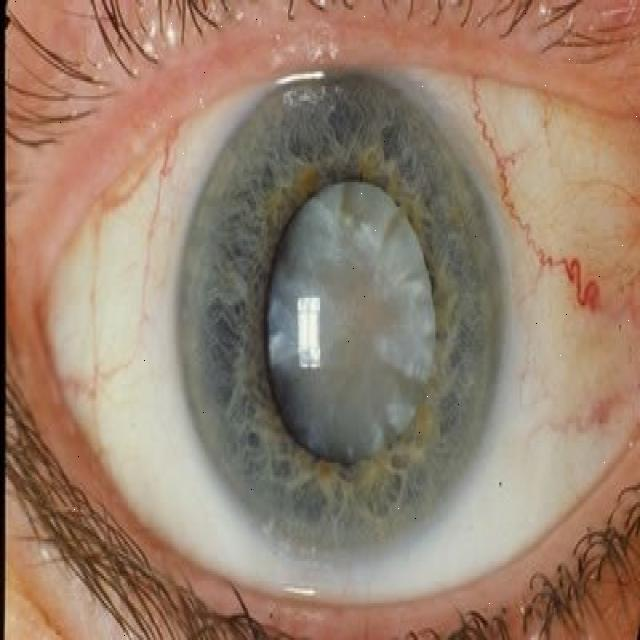Cataract: (175, 64, 500, 568)
